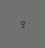nine: (19, 19, 23, 28)
